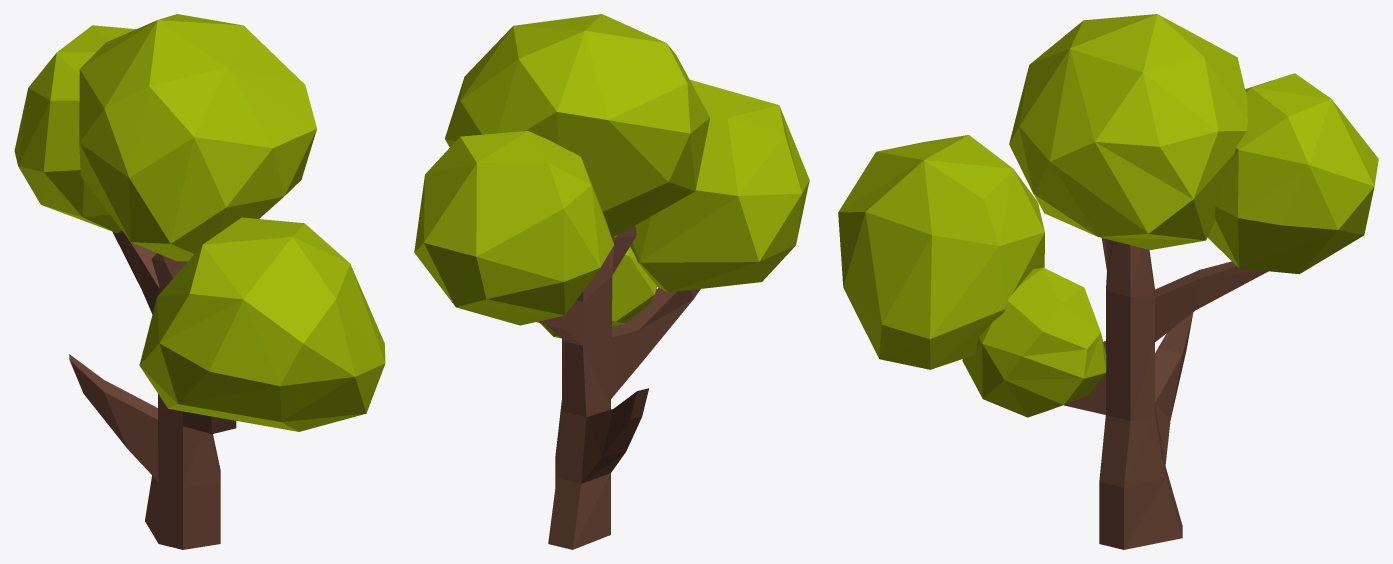
Rendered from tree_two.fbx.
3 views of the same model, side by side, from view 1: azimuth 30°, elevation 25°; view 2: azimuth 150°, elevation 25°; view 3: azimuth 270°, elevation 25° (orthographic).
Parts seen in each view (by area): view 1: leafs, wood; view 2: leafs, wood; view 3: leafs, wood.
Boxes of the visible parts, x1=… form: leafs: x1=14, y1=14, x2=385, y2=431; wood: x1=69, y1=231, x2=236, y2=549; leafs: x1=414, y1=14, x2=809, y2=338; wood: x1=537, y1=225, x2=700, y2=549; leafs: x1=838, y1=14, x2=1378, y2=417; wood: x1=1064, y1=238, x2=1268, y2=549.
Bounding box in the file's own units: 602 × 1223 × 1168.
